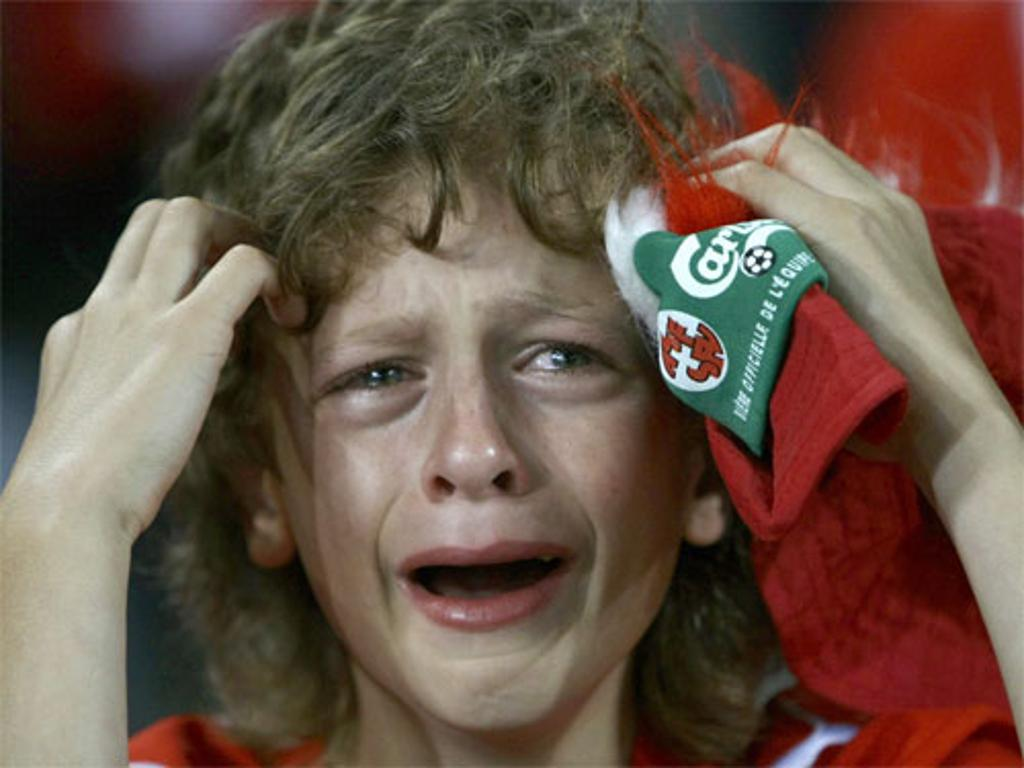face: (292, 180, 682, 726)
